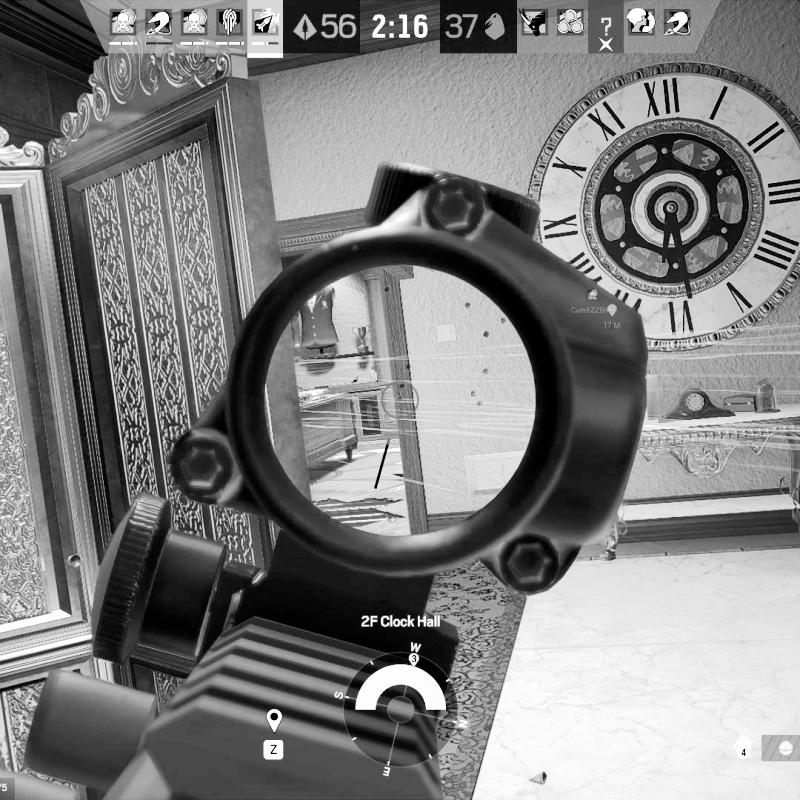Friend_label: (569, 286, 615, 315)
